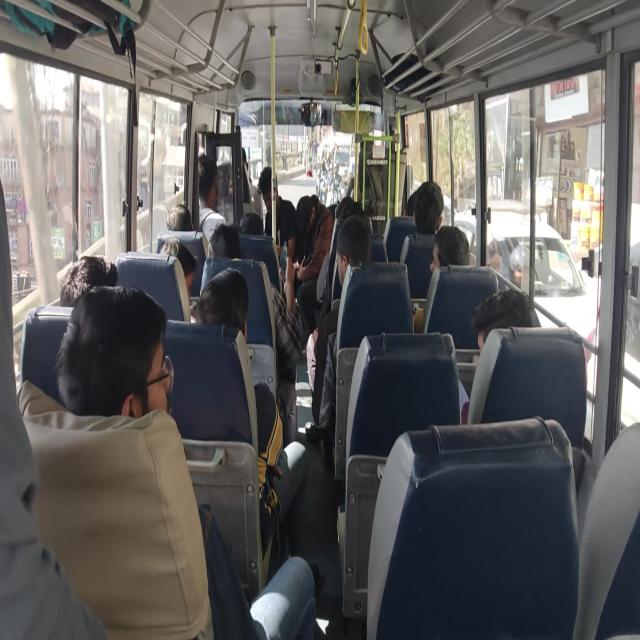person: (55, 282, 316, 638), (0, 177, 108, 638), (195, 266, 309, 570), (305, 214, 371, 468), (54, 283, 174, 419), (458, 287, 540, 423), (412, 225, 470, 332), (471, 288, 538, 357), (293, 194, 334, 296), (196, 267, 249, 341), (257, 165, 297, 258), (59, 254, 118, 308), (197, 153, 226, 243), (158, 236, 197, 296), (429, 224, 470, 274), (413, 180, 444, 234), (241, 147, 263, 220), (508, 242, 536, 290), (166, 204, 193, 231), (486, 238, 504, 276), (239, 212, 264, 234)
